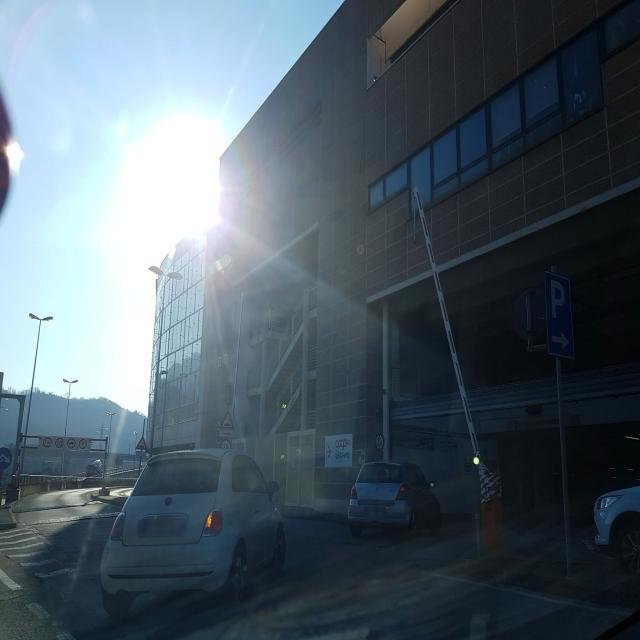car: (100, 446, 286, 615), (347, 459, 442, 538), (592, 458, 640, 575)
